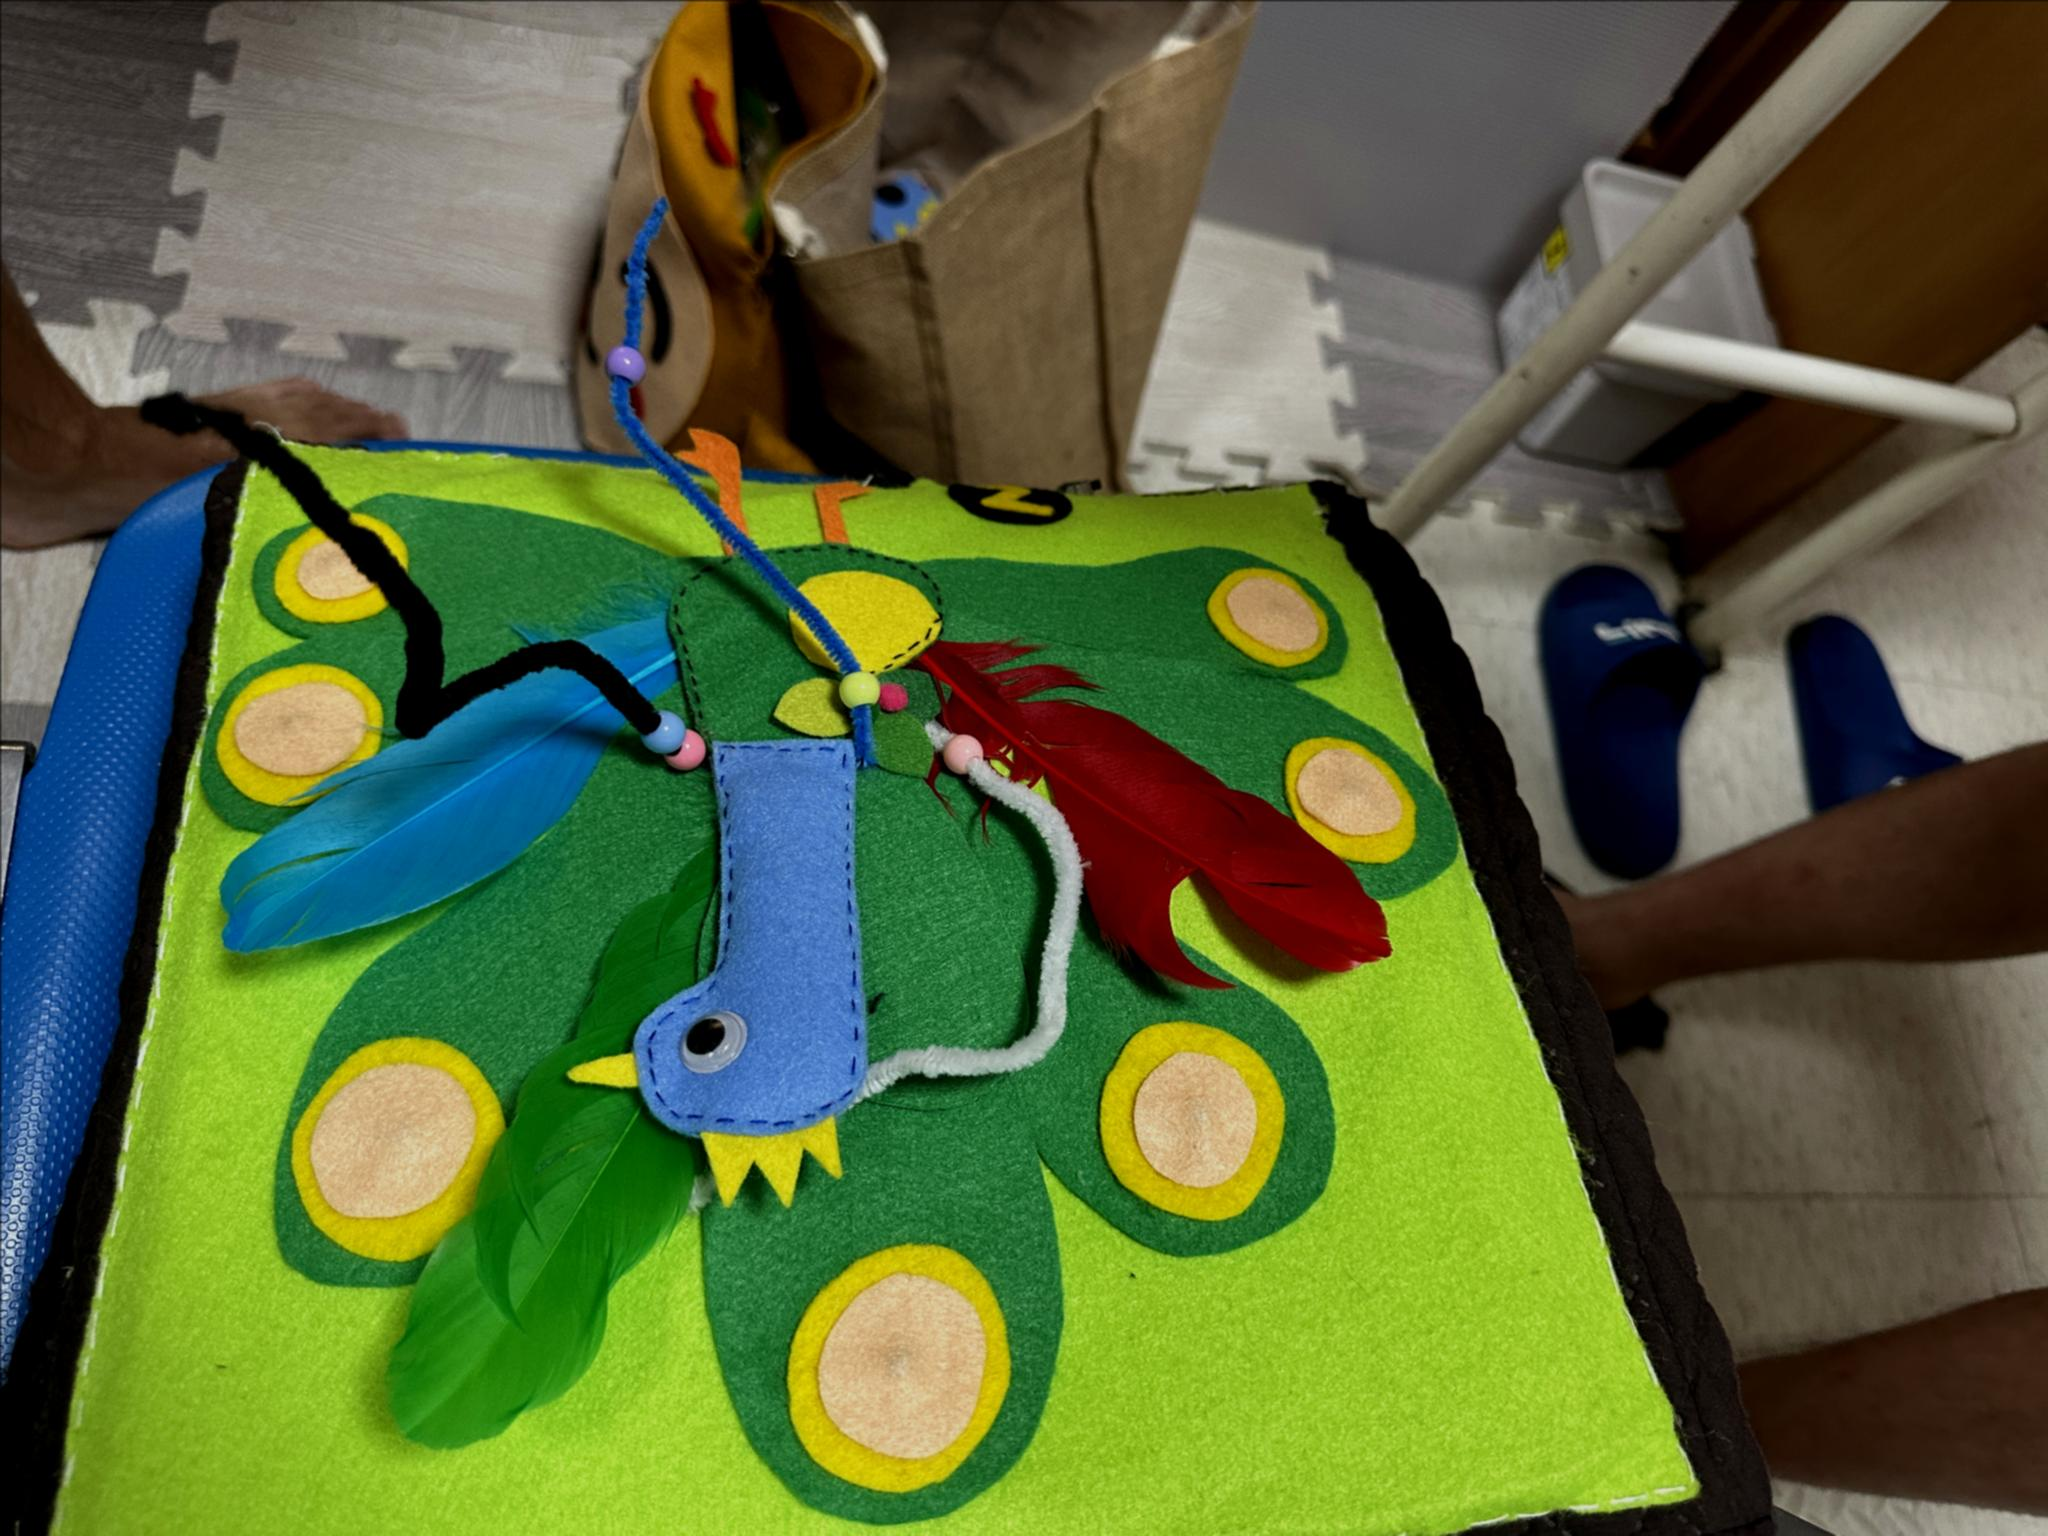bead: (598, 326, 653, 402), (642, 713, 685, 770), (832, 663, 879, 715), (940, 734, 985, 783), (674, 723, 719, 770)
